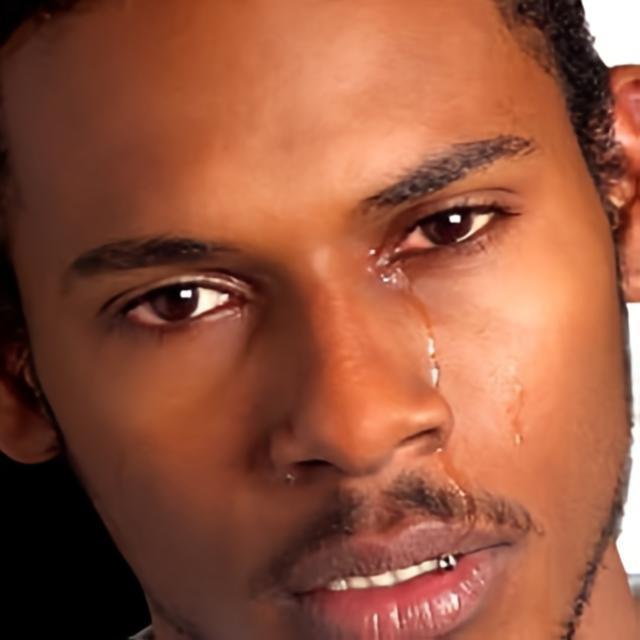anger: (13, 4, 621, 640)
